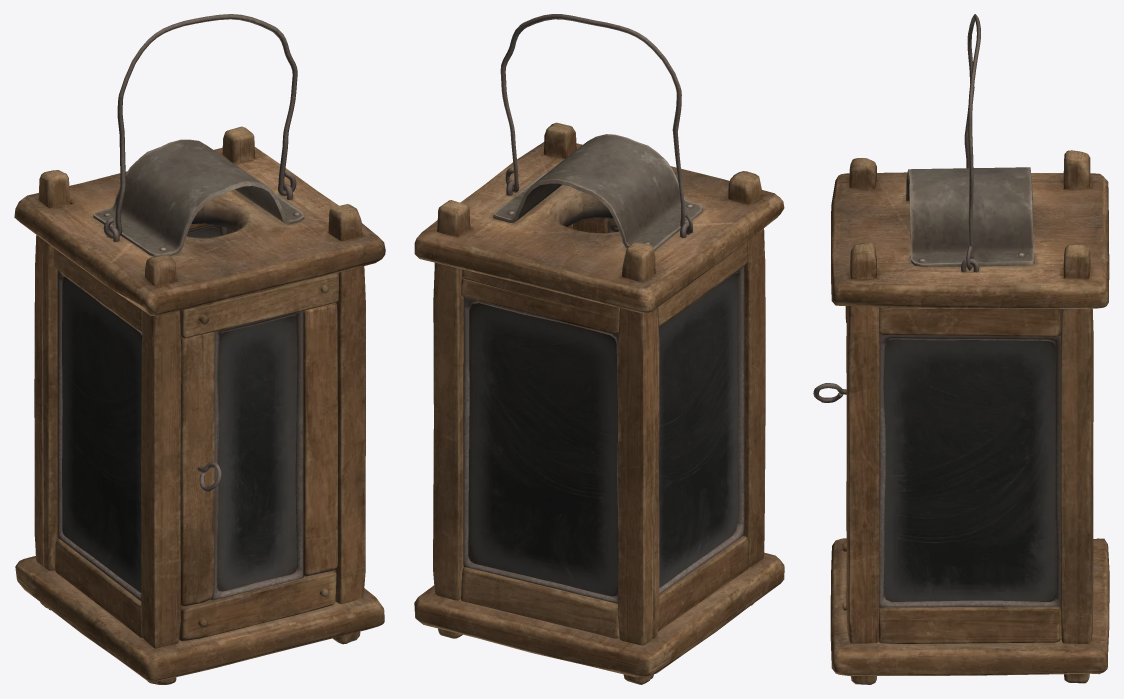
File: wooden_lantern_01.glb
The picture shows the model from 3 angles, left to right: view 1: azimuth 30°, elevation 25°; view 2: azimuth 150°, elevation 25°; view 3: azimuth 270°, elevation 25°; orthographic projection.
Parts seen in each view (by area): view 1: wooden_lantern_01, wooden_lantern_01_door, wooden_lantern_01_handle; view 2: wooden_lantern_01, wooden_lantern_01_handle, wooden_lantern_01_door; view 3: wooden_lantern_01, wooden_lantern_01_handle, wooden_lantern_01_door.
Part boxes in pixels (box(x1,y1,x2,y2)): wooden_lantern_01: box(14, 126, 385, 684); wooden_lantern_01_door: box(179, 272, 339, 641); wooden_lantern_01_handle: box(103, 14, 297, 238); wooden_lantern_01: box(414, 122, 784, 684); wooden_lantern_01_handle: box(500, 14, 692, 234); wooden_lantern_01_door: box(573, 217, 618, 233); wooden_lantern_01: box(830, 150, 1109, 684); wooden_lantern_01_handle: box(964, 14, 980, 270); wooden_lantern_01_door: box(813, 306, 847, 610).
Bounding box in the file's own units: 0.2211 × 0.5301 × 0.2347.
2 materials, 2 textured.
